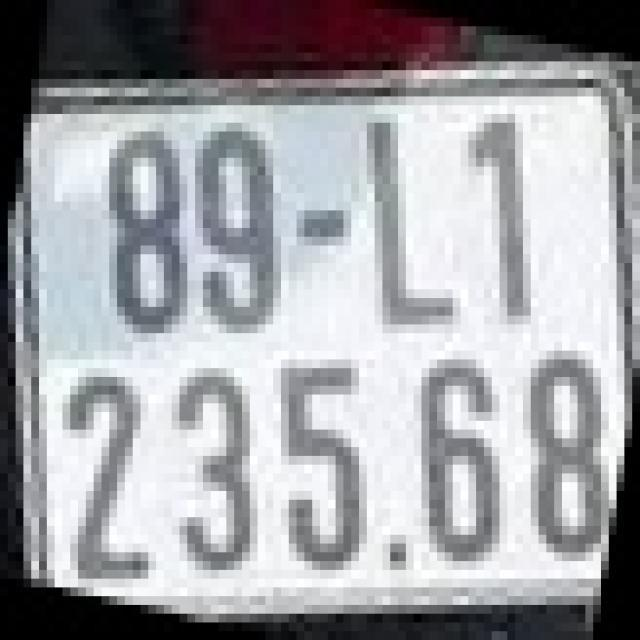1: (468, 113, 538, 324)
2: (62, 368, 156, 579)
3: (172, 368, 258, 570)
5: (281, 360, 367, 570)
6: (414, 359, 499, 562)
8: (531, 350, 609, 562), (110, 122, 188, 334)
9: (195, 122, 281, 334)
L: (359, 113, 461, 324)
